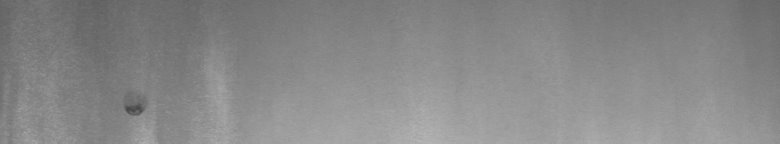fi: (121, 100, 148, 128)
